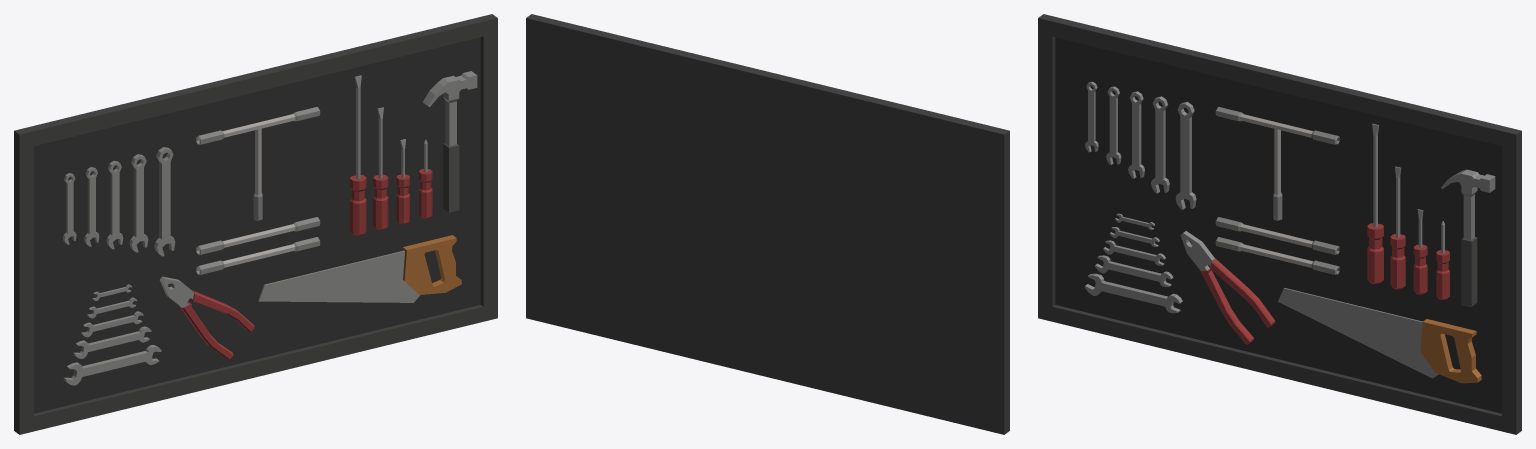
Rendered from SM_Props_Interior_Shop_AutoRepair_Tools_Preset.fbx.
3 views of the same model, side by side, from view 1: azimuth 30°, elevation 25°; view 2: azimuth 150°, elevation 25°; view 3: azimuth 330°, elevation 25° (orthographic).
Visible parts, largest first — view 1: SM_Props_Interior_Shop_AutoRepair_Tools_Preset; view 2: SM_Props_Interior_Shop_AutoRepair_Tools_Preset; view 3: SM_Props_Interior_Shop_AutoRepair_Tools_Preset.
Boxes of the visible parts, x1,y1,x2,y2 form: SM_Props_Interior_Shop_AutoRepair_Tools_Preset: (14, 14, 497, 434); SM_Props_Interior_Shop_AutoRepair_Tools_Preset: (526, 14, 1009, 434); SM_Props_Interior_Shop_AutoRepair_Tools_Preset: (1038, 14, 1521, 434).
Size of the model in its own units: 200 by 120 by 7.25.
